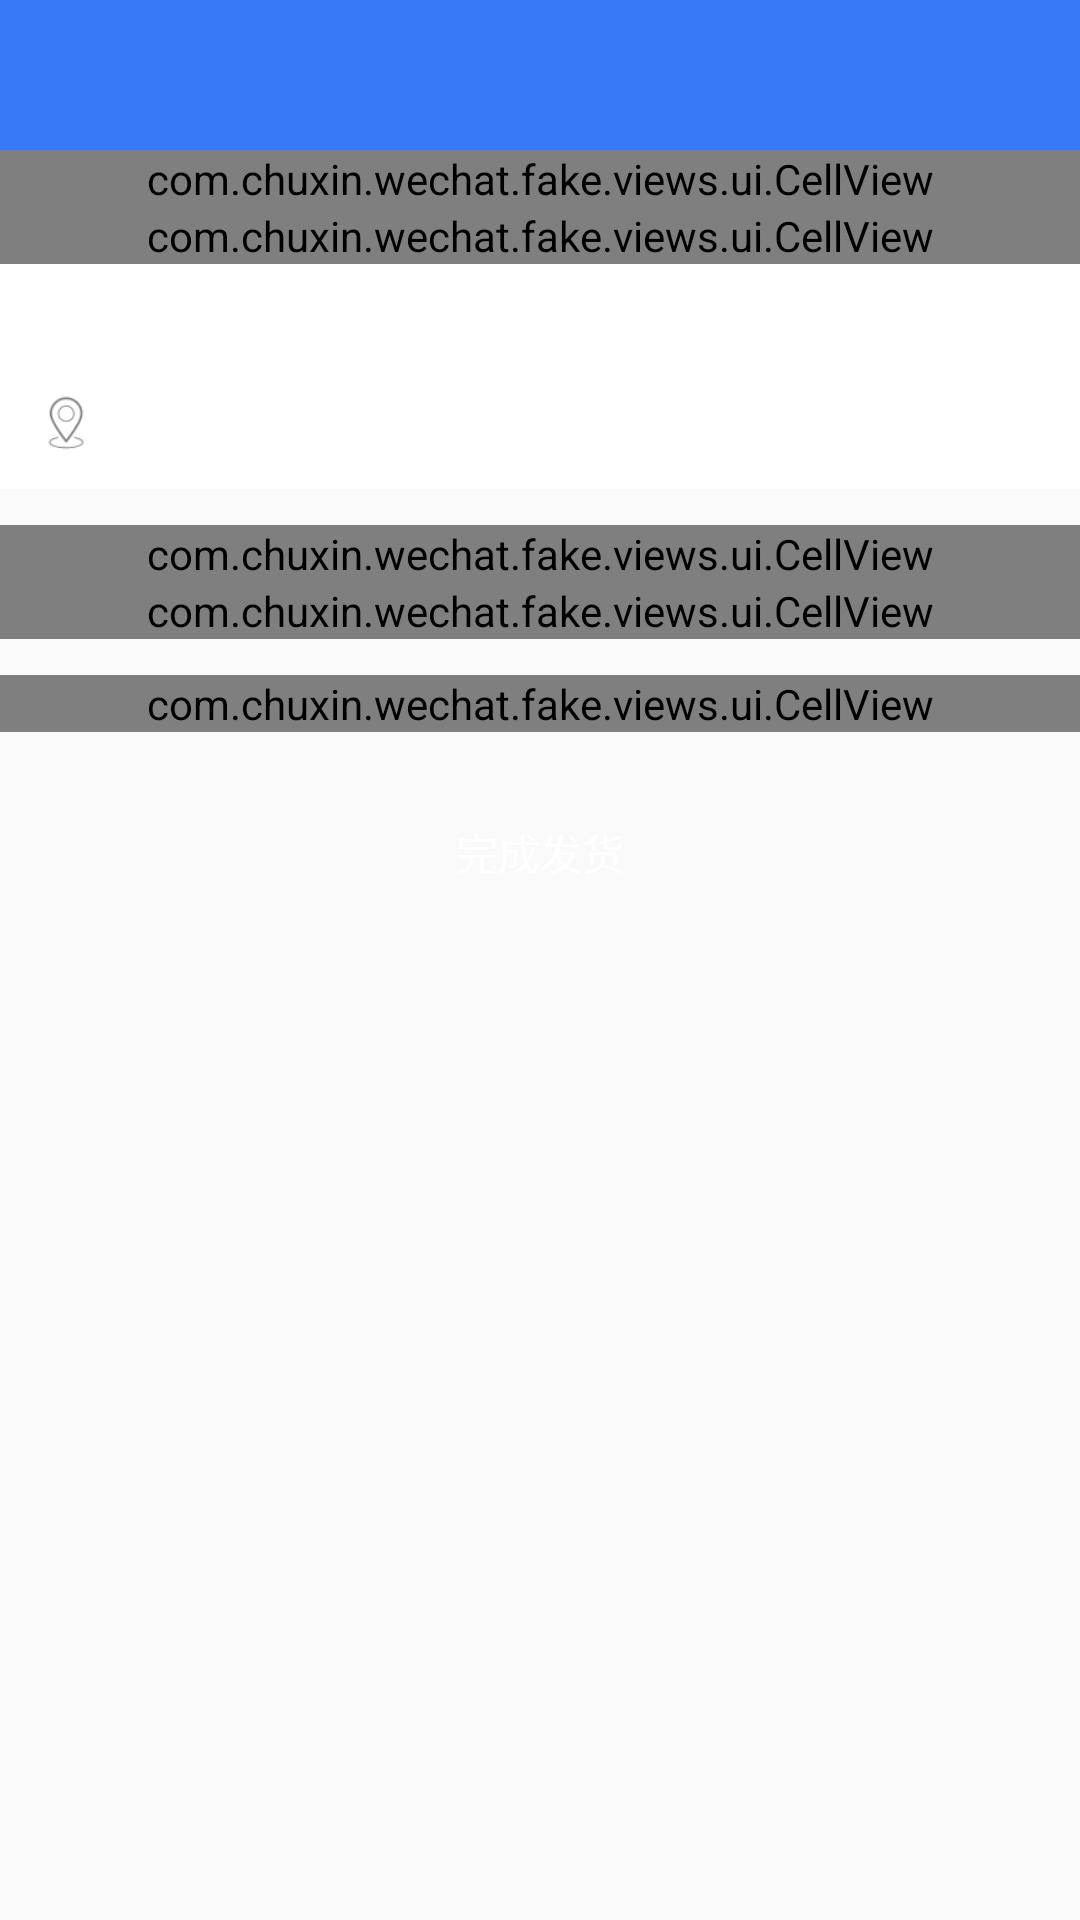

Icon bounding boxes for this 1080px×1920px phone screenshot, format {"left": x1, "top": y1, "right": x2, "bottom": y2}:
location: {"left": 48, "top": 397, "right": 84, "bottom": 449}
